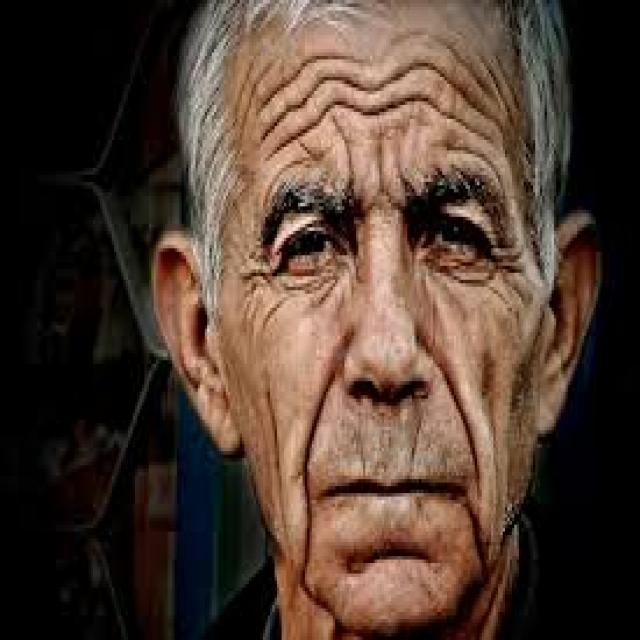Wrinkles: (246, 22, 513, 176), (261, 372, 293, 554), (479, 350, 504, 545), (232, 253, 280, 348), (507, 239, 537, 318)
